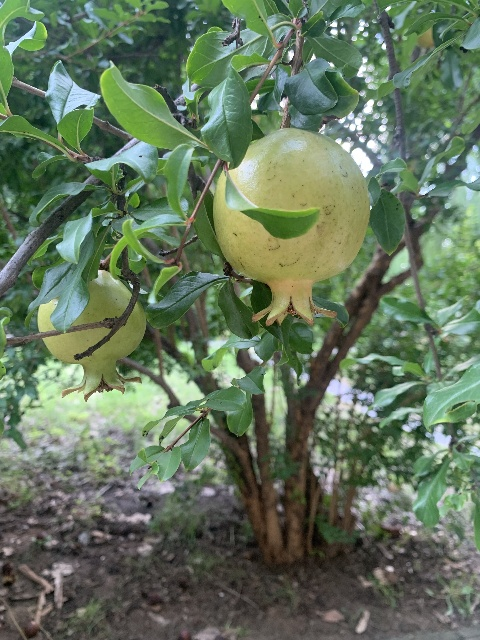mid-growth: (212, 127, 371, 327), (37, 269, 146, 402)
